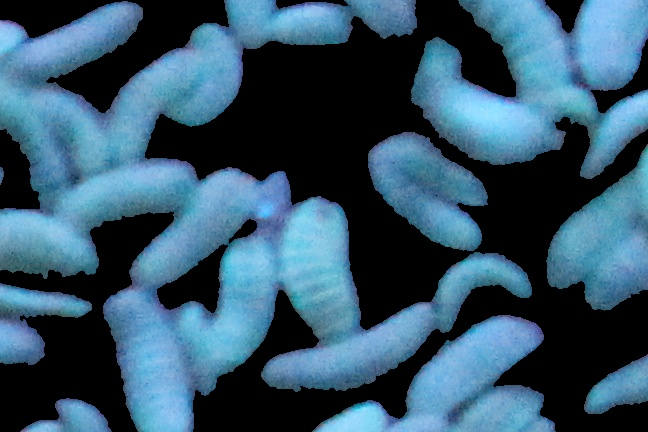larvae: (262, 303, 427, 391), (100, 286, 192, 432), (409, 316, 544, 415), (136, 167, 251, 282), (440, 1, 575, 84), (372, 149, 484, 249), (549, 172, 644, 286), (426, 85, 559, 164), (287, 190, 354, 340), (108, 46, 189, 156), (53, 157, 196, 215), (427, 254, 530, 329), (16, 9, 157, 63), (567, 1, 648, 94), (392, 125, 486, 204), (1, 210, 98, 279), (31, 81, 109, 166), (1, 86, 67, 183), (214, 253, 274, 357), (582, 90, 648, 180), (184, 25, 242, 127), (166, 293, 222, 395), (585, 227, 648, 314), (262, 4, 360, 53), (462, 382, 544, 432), (1, 285, 89, 320)
